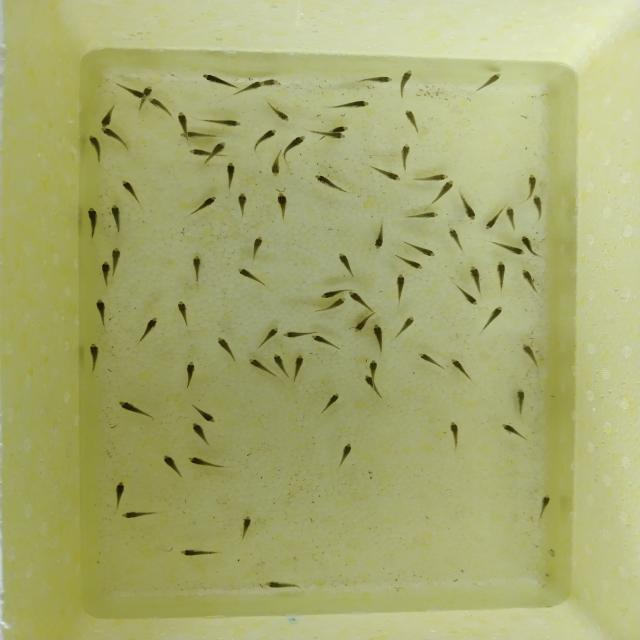fingerling: (101, 127, 134, 151), (482, 303, 507, 334), (510, 381, 530, 418), (113, 400, 152, 418), (283, 129, 312, 153), (266, 100, 292, 124), (257, 324, 283, 348), (309, 170, 340, 190), (194, 407, 222, 429), (216, 338, 239, 364), (395, 317, 417, 344), (478, 69, 506, 90), (189, 196, 218, 216), (234, 266, 263, 286), (194, 71, 230, 87), (117, 178, 140, 203), (416, 348, 444, 368), (448, 355, 471, 379), (434, 176, 456, 201), (322, 392, 344, 417), (187, 422, 212, 444), (310, 334, 342, 351), (454, 284, 479, 305), (336, 444, 356, 470), (494, 260, 511, 290), (188, 254, 205, 284), (141, 315, 163, 338), (498, 421, 526, 439), (353, 313, 374, 337), (519, 233, 539, 258), (522, 344, 542, 369), (346, 290, 371, 310), (498, 242, 527, 259), (161, 451, 179, 478), (520, 267, 538, 294), (173, 298, 190, 326), (335, 251, 354, 276), (248, 232, 266, 258), (95, 300, 113, 326), (119, 509, 155, 522), (374, 166, 403, 182), (446, 422, 462, 451), (146, 93, 168, 114), (255, 125, 277, 146), (397, 65, 411, 98), (200, 117, 246, 127), (447, 230, 467, 253), (108, 203, 125, 230), (113, 85, 145, 99), (359, 74, 396, 86), (461, 197, 478, 222), (407, 245, 437, 259), (483, 210, 503, 231), (273, 348, 287, 378), (394, 270, 408, 300), (277, 196, 292, 224), (88, 344, 103, 372), (404, 106, 420, 132), (315, 287, 347, 300), (291, 351, 306, 378), (373, 324, 386, 355), (87, 134, 103, 159), (536, 494, 552, 519), (313, 300, 346, 312), (174, 547, 210, 558), (238, 512, 254, 536), (88, 208, 100, 240), (186, 456, 215, 469), (99, 262, 114, 287), (262, 580, 296, 591), (506, 206, 520, 232), (98, 108, 115, 128), (336, 101, 370, 111), (373, 228, 386, 254), (410, 211, 440, 222), (269, 154, 282, 179), (240, 193, 252, 220), (281, 330, 308, 342), (174, 110, 190, 130), (417, 172, 452, 181), (184, 364, 197, 388), (528, 173, 540, 199), (238, 79, 269, 89), (225, 159, 236, 187), (106, 247, 124, 264), (364, 356, 380, 375), (171, 132, 219, 138), (400, 256, 422, 269), (364, 374, 380, 391), (189, 147, 206, 163), (213, 139, 229, 156), (400, 142, 412, 164), (469, 265, 483, 283), (533, 192, 544, 214), (262, 76, 282, 88), (114, 478, 125, 499), (250, 356, 264, 372), (142, 82, 154, 99), (318, 132, 348, 138), (329, 126, 352, 132)
